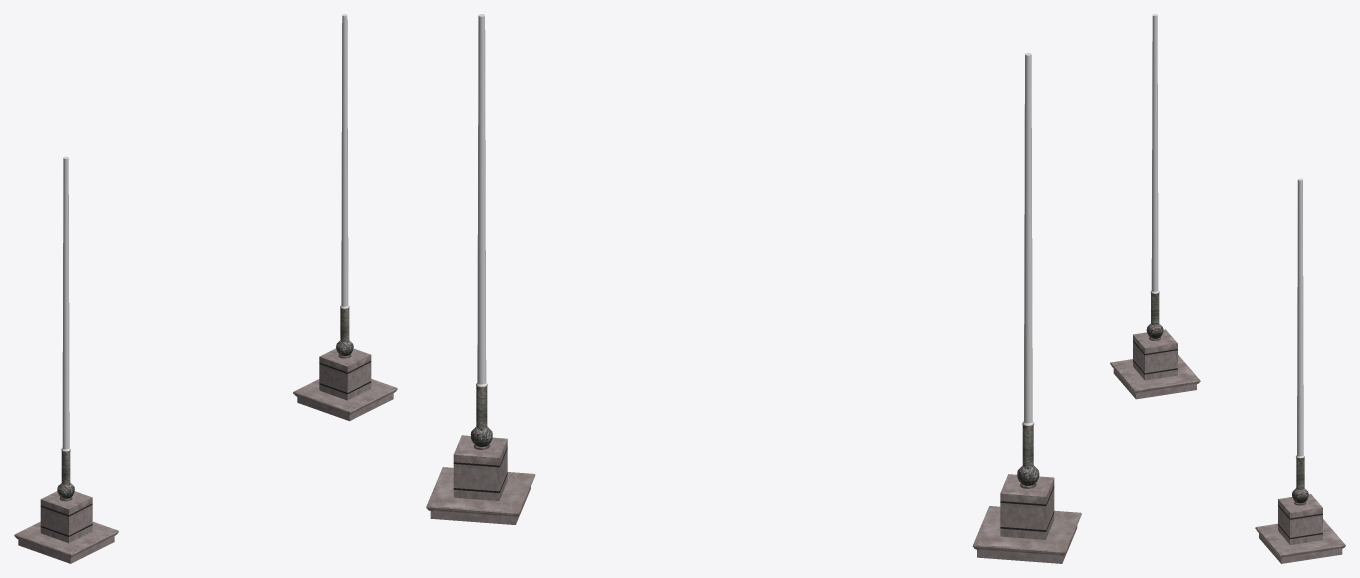
The model's file is new_flagholders.FBX.
3 renders of one model, left to right at view 1: azimuth 30°, elevation 25°; view 2: azimuth 150°, elevation 25°; view 3: azimuth 270°, elevation 25°, orthographic. The views are drawn at different scales.
Visible parts, largest first — view 1: Flag_holder_bottom_part005, Flag_holder_bottom_part, Flag_holder_top_part, Flag_holder_top_part005, Line002, Line170, Line169, Line001; view 2: Flag_holder_bottom_part, Flag_holder_bottom_part005, Line170, Line002, Flag_holder_top_part, Flag_holder_top_part005, Line001, Line169; view 3: Flag_holder_bottom_part005, Flag_holder_bottom_part, Line170, Flag_holder_top_part005, Flag_holder_top_part, Line002, Line001, Line169.
Boxes of the visible parts, x1,y1,x2,y2 form: Flag_holder_bottom_part005: (293,379,397,421); Flag_holder_bottom_part: (14,521,118,563); Flag_holder_top_part: (40,491,92,543); Flag_holder_top_part005: (319,348,371,400); Line002: (61,156,70,451); Line170: (340,14,349,308); Line169: (336,306,353,358); Line001: (57,449,74,501); Flag_holder_bottom_part: (972,506,1081,563); Flag_holder_bottom_part005: (426,467,535,524); Line170: (476,14,487,386); Line002: (1022,52,1033,425); Flag_holder_top_part: (1000,474,1054,539); Flag_holder_top_part005: (453,435,507,500); Line001: (1017,423,1039,488); Line169: (470,384,492,450); Flag_holder_bottom_part005: (1255,519,1345,563); Flag_holder_bottom_part: (1110,355,1200,399); Line170: (1296,178,1304,458); Flag_holder_top_part005: (1278,494,1322,544); Flag_holder_top_part: (1133,329,1177,380); Line002: (1151,14,1159,293); Line001: (1146,292,1163,340); Line169: (1292,456,1308,505).
Bounding box in the file's own units: 1643 × 1384 × 807.
Materials: 4 (2 with a texture image).
